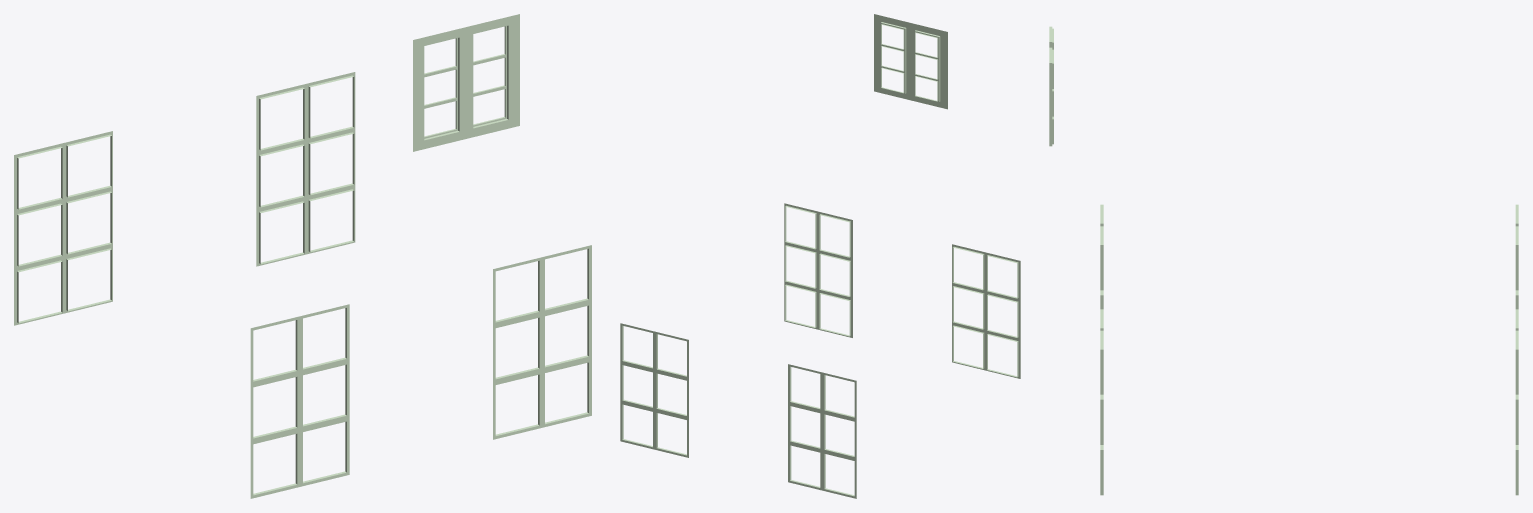
Rendered from FairyTale208.gltf.
3 views of the same model, side by side, from view 1: azimuth 30°, elevation 25°; view 2: azimuth 150°, elevation 25°; view 3: azimuth 270°, elevation 25° (orthographic). The views are drawn at different scales.
Visible parts, largest first — view 1: GateHouseSM_Mullions_Wood; view 2: GateHouseSM_Mullions_Wood; view 3: GateHouseSM_Mullions_Wood.
Part boxes in pixels (x1,y1,x2,y2): GateHouseSM_Mullions_Wood: (14, 14, 591, 498); GateHouseSM_Mullions_Wood: (620, 14, 1020, 498); GateHouseSM_Mullions_Wood: (1049, 26, 1518, 495).
Size of the model in its own units: 2.07 by 2.59 by 2.78.
